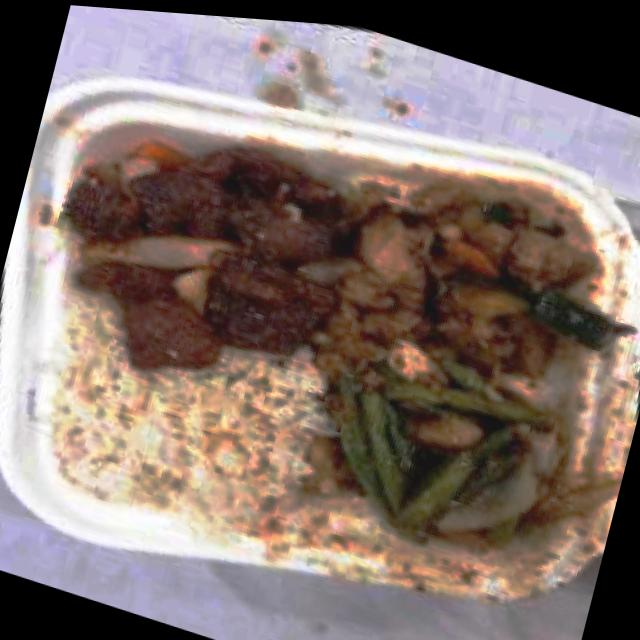Beijing Beef: (50, 108, 340, 411)
Kung Pao Chicken: (366, 165, 598, 419)
String Bean Chicken Breast: (306, 339, 590, 586)
rice: (47, 348, 300, 554), (213, 341, 324, 422)
